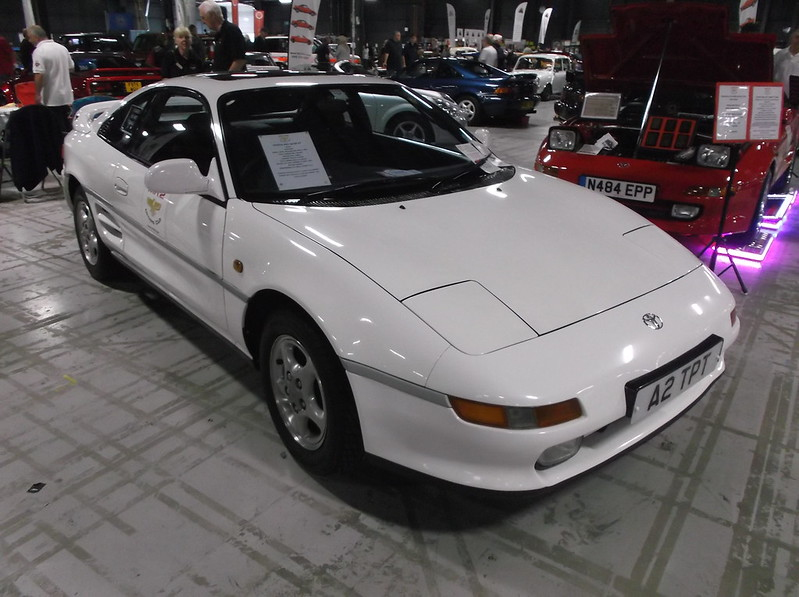number_plate: (600, 331, 769, 422), (583, 170, 681, 214), (115, 76, 156, 91)
